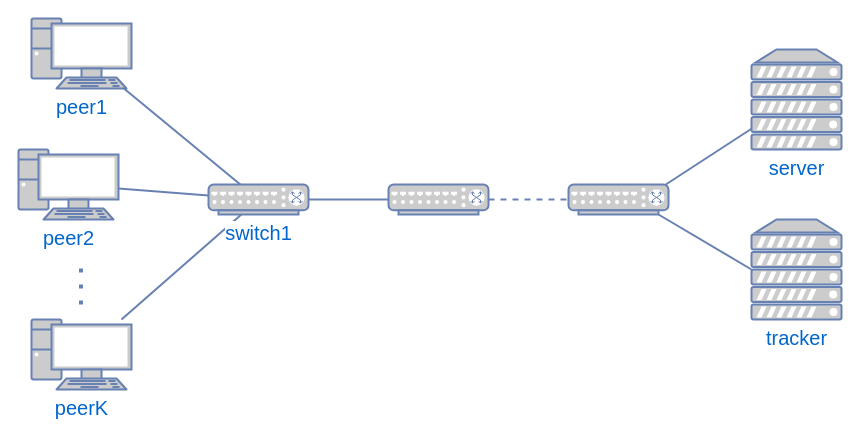
The diagram is 859 pixels wide and 437 high, and some of its shapes have lost their labels. The centre of each missing label's shape, as x and y in pixels:
switch2: the point at 438,199
switchN: the point at 618,199
